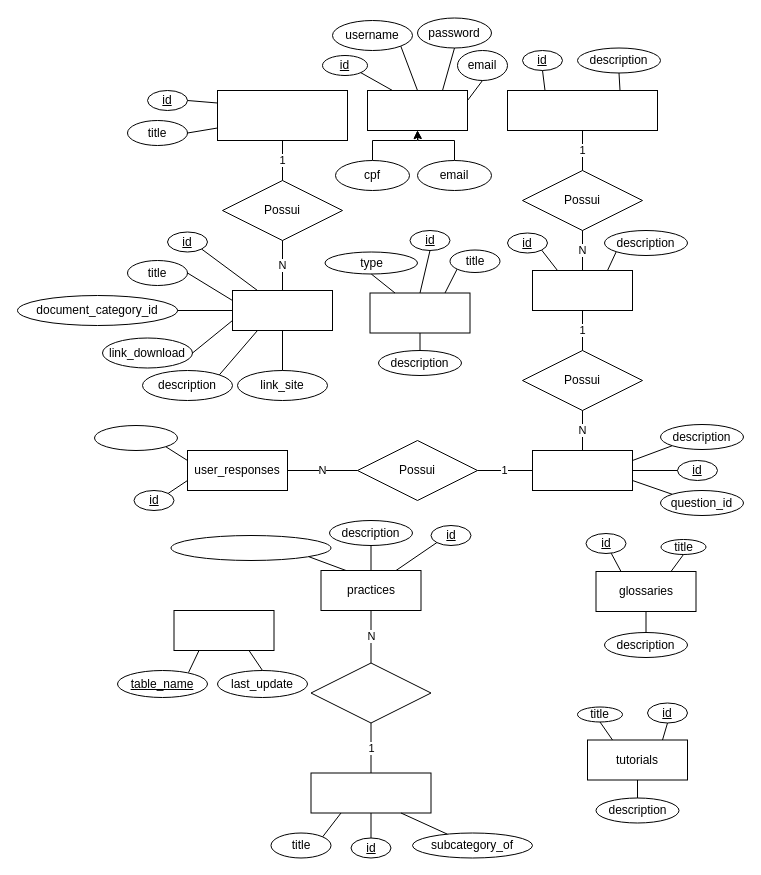
This 761x875 diagram has some shape labels left out. The shapes that lost their labels are listed below. From the top down, each one's box as (x1, y1, x2, y2) in pixels, then its label:
(216, 90, 348, 140): document_categories
(366, 90, 468, 130): users
(506, 90, 658, 130): first_acess_questionaries
(232, 290, 332, 330): documents
(532, 270, 632, 310): questions
(369, 292, 470, 333): FAQ
(94, 424, 178, 450): alternative_id
(532, 450, 632, 490): alternatives
(170, 534, 331, 560): practices_category_id
(173, 610, 274, 650): logs
(310, 662, 431, 723): Pertence
(310, 772, 431, 813): practice_categories
